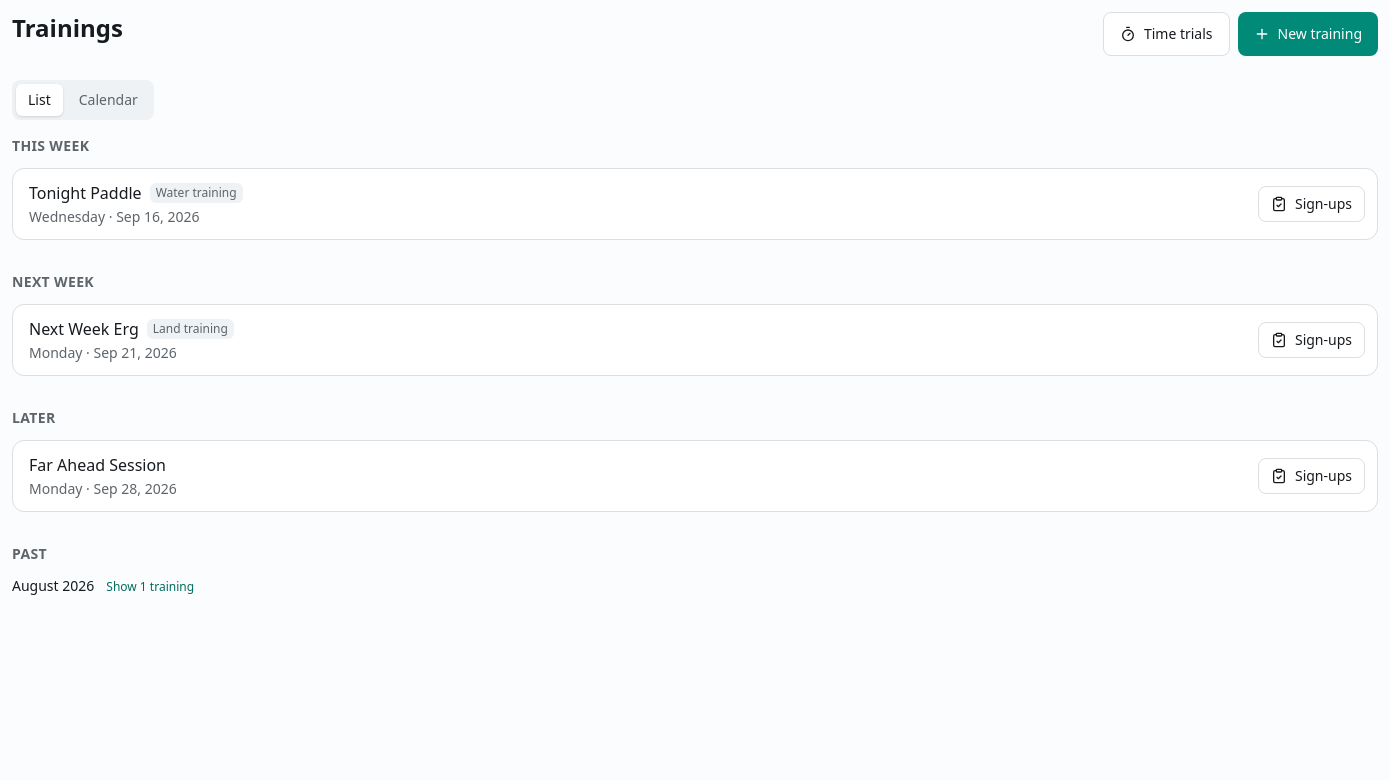
TrainingsPage › plans the week: this week, next week, later, and a folded past
This screenshot has width=1390, height=780.
Expected: the text "Tonight Paddle" is shown, [29,181,142,205]
Expected: the text "Water training" is shown, [150,183,243,203]
Click the button "Show 1 training" at (150, 587), box [106,579,194,595]
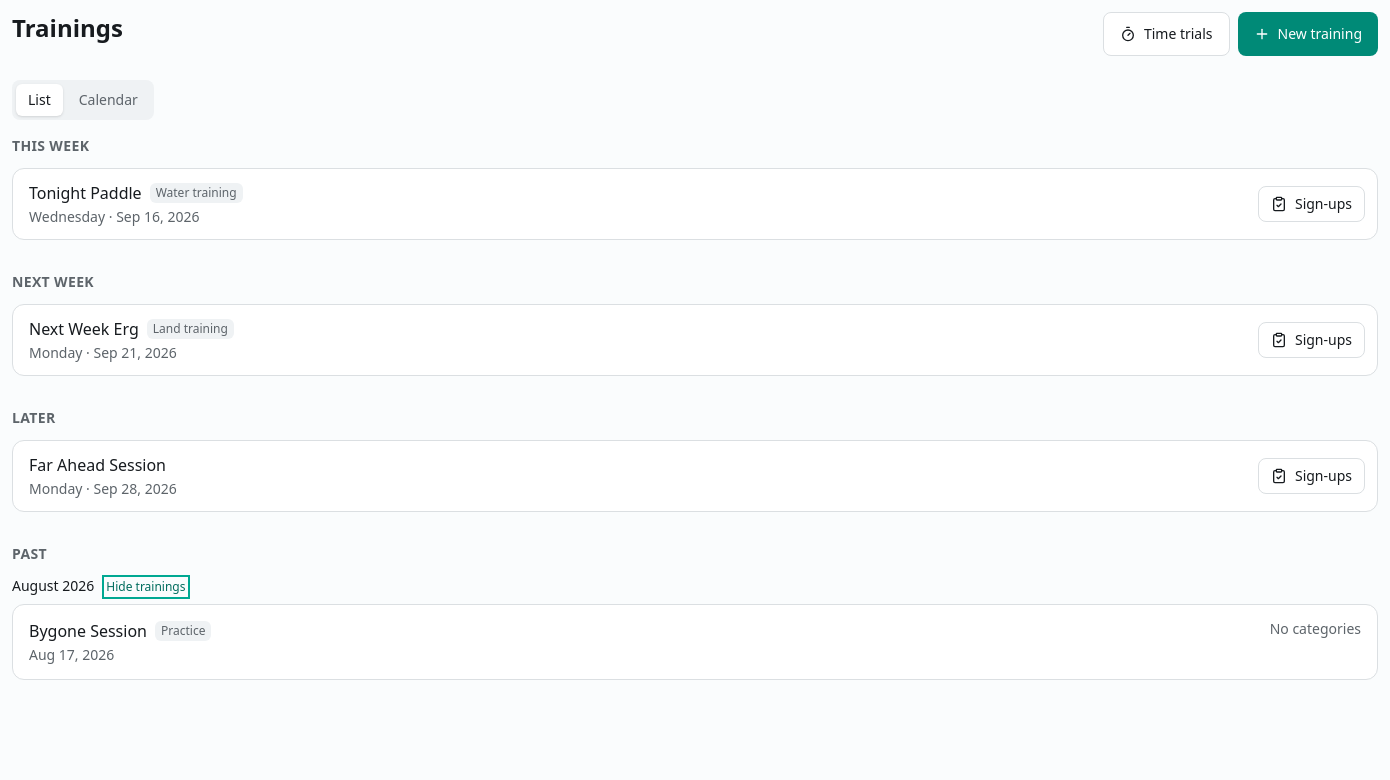
Result: the text "Bygone Session" is shown at [29,619,147,643]
